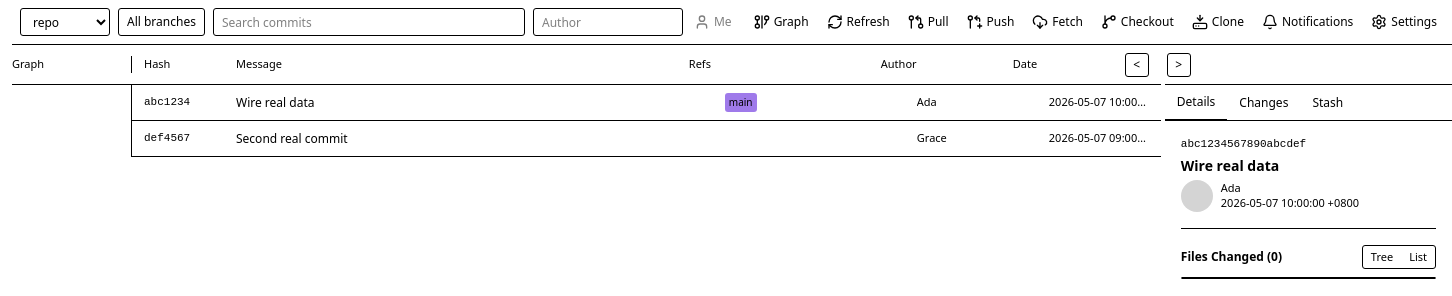
App › ignores stale stash detail responses after switching repositories
Step 1. Click the tab "Stash" → (1328, 102), box [1300,85,1355,120]
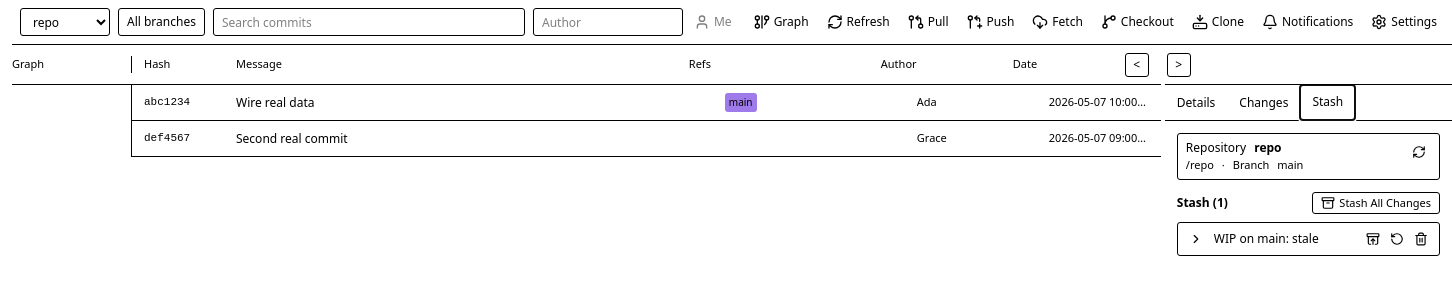
Step 2. Click the button named "Expand stash WIP on main: stale" → (1196, 239), box [1186,229,1206,249]
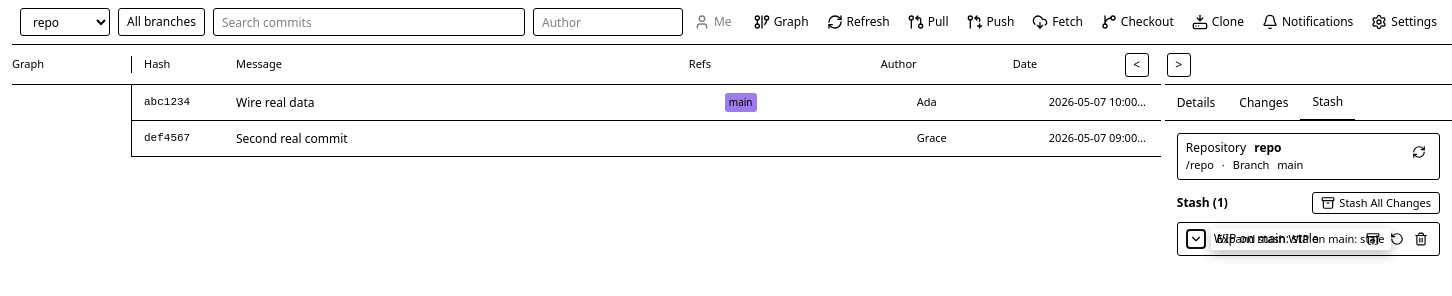
Step 3. Select "repo-two" in the dropdown named "Repository" → (65, 22), box [20,8,110,36]
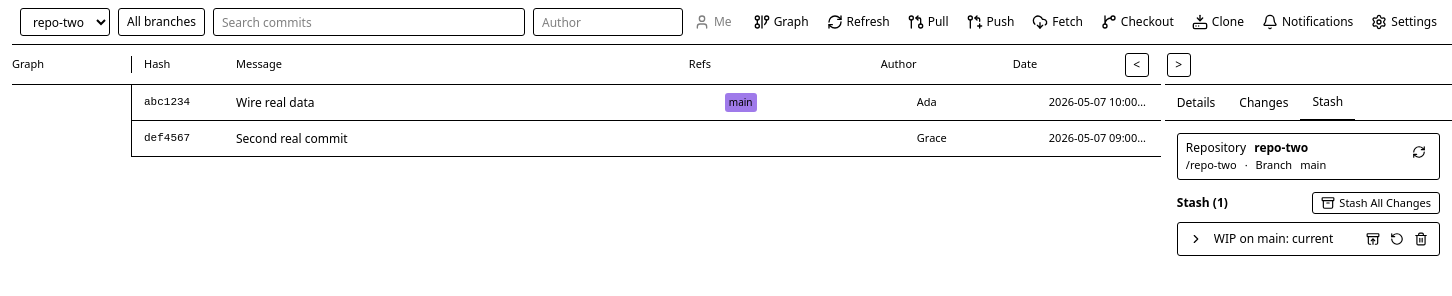
Expected: the text "WIP on main: current" is shown, [1214,230,1333,247]
